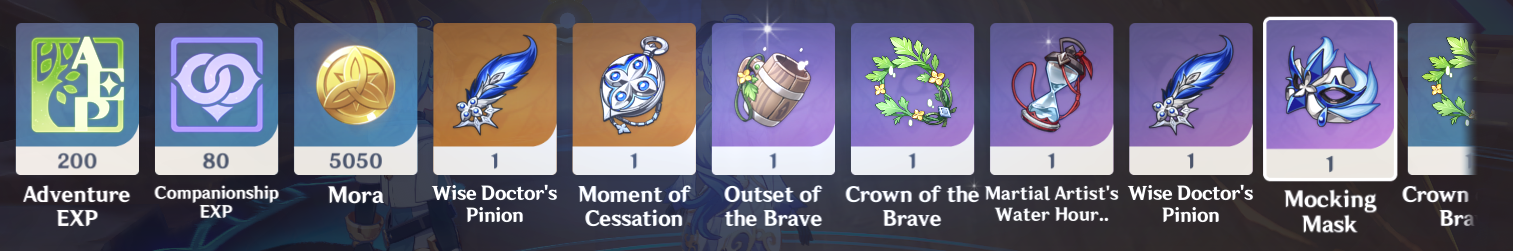4 star artifact: (1258, 11, 1402, 189), (982, 14, 1120, 187), (845, 15, 982, 184), (706, 15, 842, 182), (1122, 17, 1259, 182)
5 star artifact: (565, 18, 702, 182), (428, 19, 563, 184)
